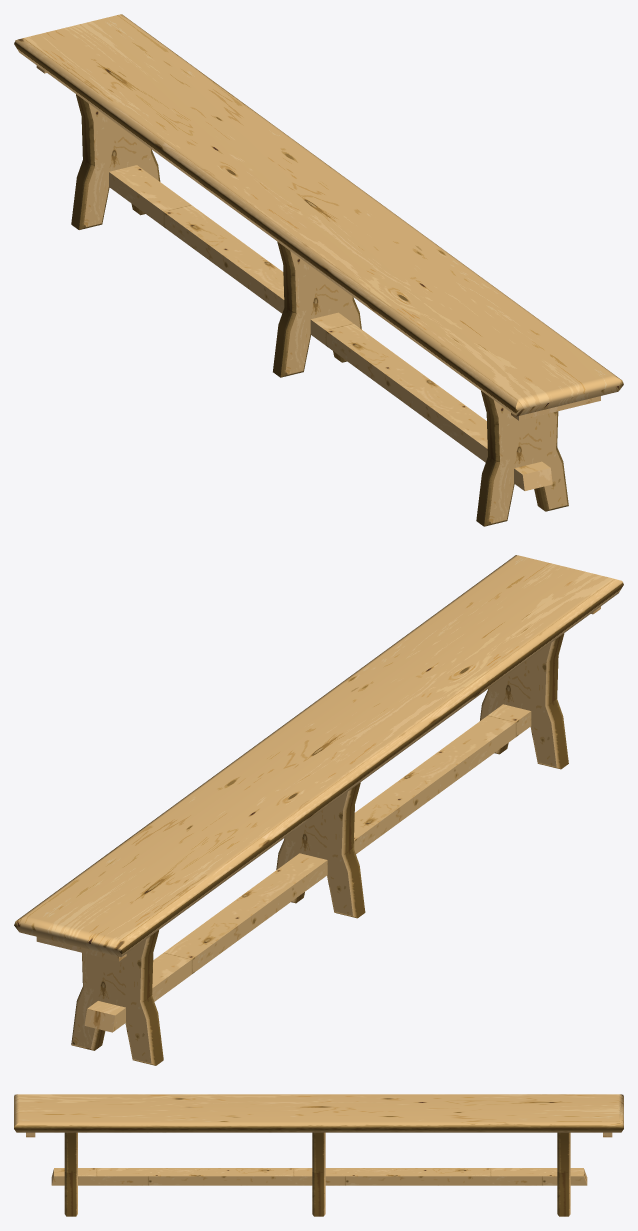
Rendered from bench_new.fbx.
3 views of the same model, one above another, from view 1: azimuth 30°, elevation 25°; view 2: azimuth 150°, elevation 25°; view 3: azimuth 270°, elevation 25° (orthographic). The views are drawn at different scales.
Parts seen in each view (by area): view 1: polySurface1; view 2: polySurface1; view 3: polySurface1.
Part boxes in pixels (x1,y1,x2,y2): polySurface1: [14, 14, 623, 526]; polySurface1: [14, 555, 623, 1065]; polySurface1: [14, 1094, 623, 1216].
Bounding box in the file's own units: 3.87 × 5.39 × 30.96.
